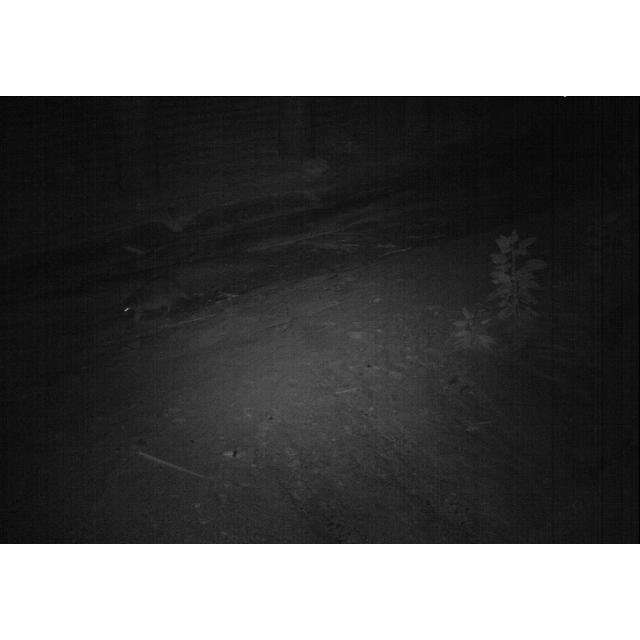animals: (118, 272, 196, 332)
